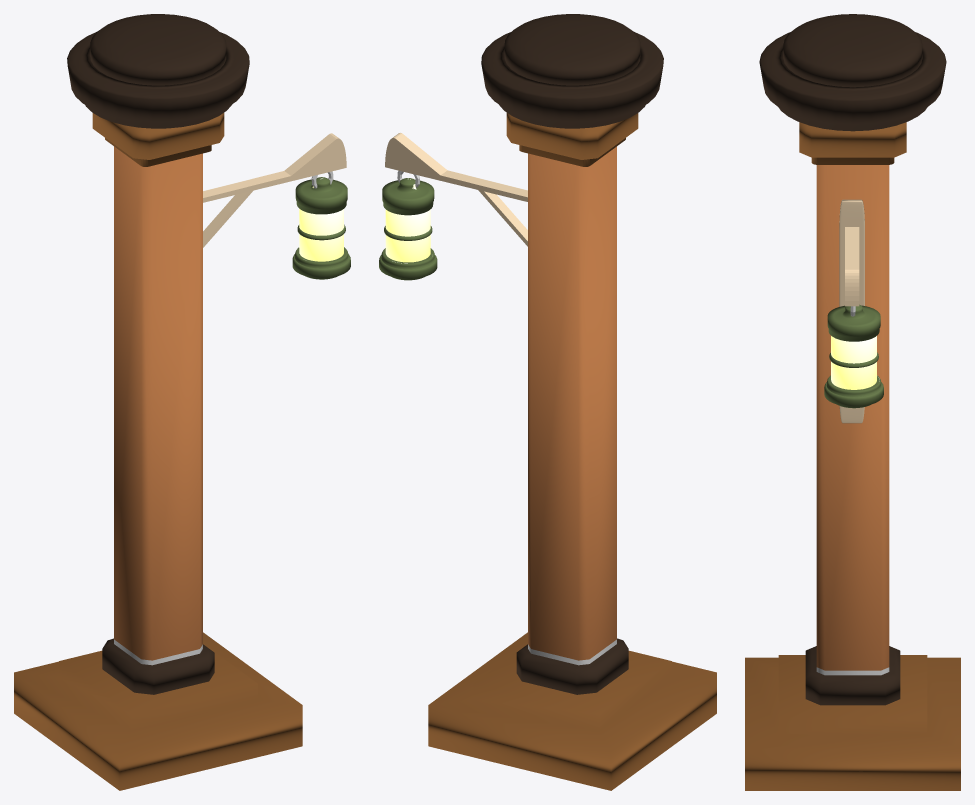
The model's file is streetlight(color).fbx.
3 renders of one model, left to right at view 1: azimuth 30°, elevation 25°; view 2: azimuth 150°, elevation 25°; view 3: azimuth 270°, elevation 25°, orthographic. The views are drawn at different scales.
Visible parts, largest first — view 1: Cube, Cylinder, Cylinder.001, Cube.001, Cube.002; view 2: Cube, Cylinder, Cylinder.001, Cube.001, Cube.002; view 3: Cube, Cylinder, Cylinder.001, Cube.001, Cube.002.
Part boxes in pixels (left/top/right/bottom): Cube: left=14, top=146, right=302, bottom=790; Cylinder: left=67, top=14, right=249, bottom=128; Cylinder.001: left=292, top=177, right=350, bottom=279; Cube.001: left=92, top=113, right=224, bottom=166; Cube.002: left=203, top=133, right=346, bottom=247; Cube: left=428, top=146, right=716, bottom=790; Cylinder: left=481, top=14, right=663, bottom=128; Cylinder.001: left=379, top=178, right=437, bottom=280; Cube.001: left=506, top=113, right=638, bottom=166; Cube.002: left=385, top=133, right=527, bottom=246; Cube: left=745, top=165, right=960, bottom=790; Cylinder: left=759, top=14, right=946, bottom=131; Cylinder.001: left=824, top=304, right=883, bottom=408; Cube.001: left=799, top=122, right=906, bottom=164; Cube.002: left=839, top=199, right=864, bottom=423.
Size of the model in its own units: 307 by 725 by 200.
